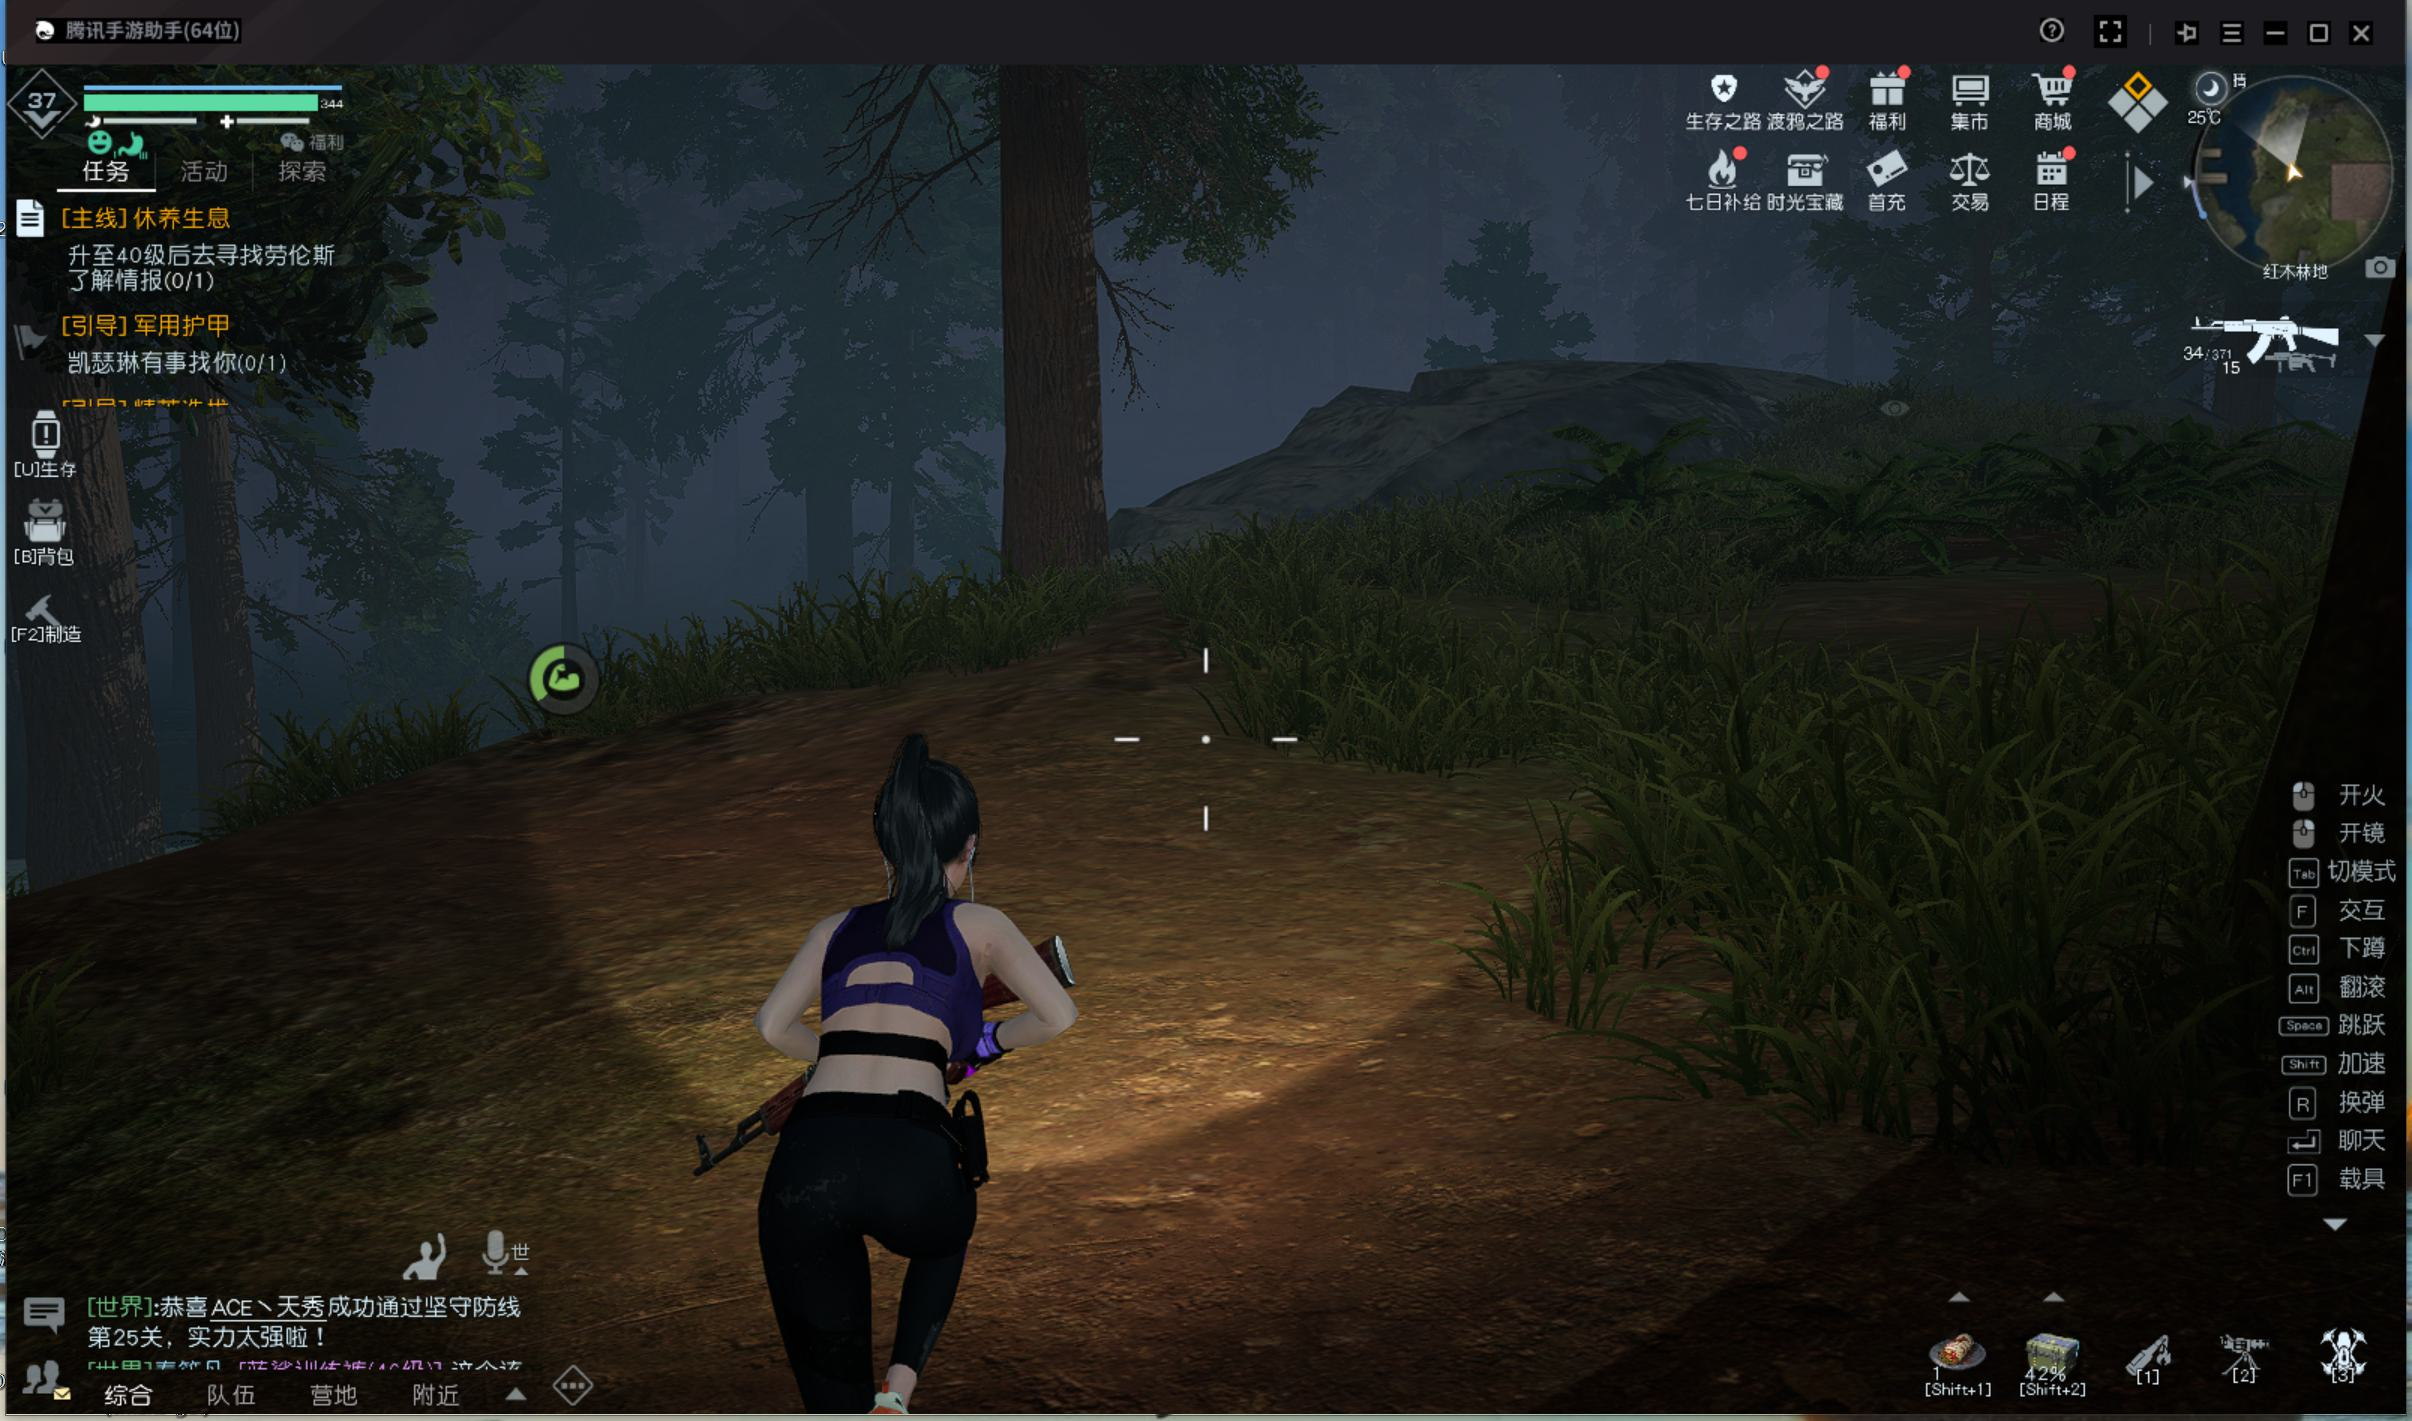tree: (983, 195, 1125, 585), (159, 421, 257, 854), (797, 467, 859, 609), (881, 443, 934, 599), (558, 491, 584, 680)
